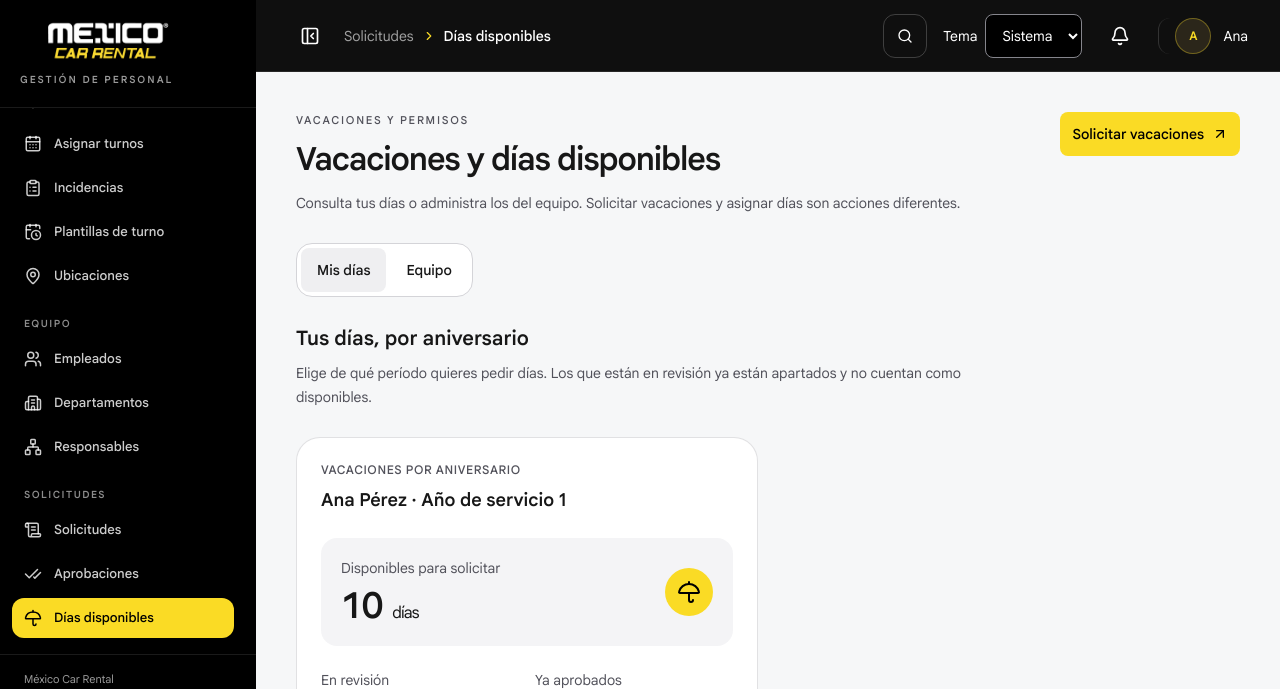
Test case: separates personal vacation days from team management without mixing employees
(page scrolled)
Expected: the heading "Ana Pérez · Año de servicio 1" is shown, [321, 488, 567, 510]
Expected: the text "Luis del equipo · Año de servicio 1" is not shown
Click the button "Equipo": [429, 270] box [390, 248, 468, 292]
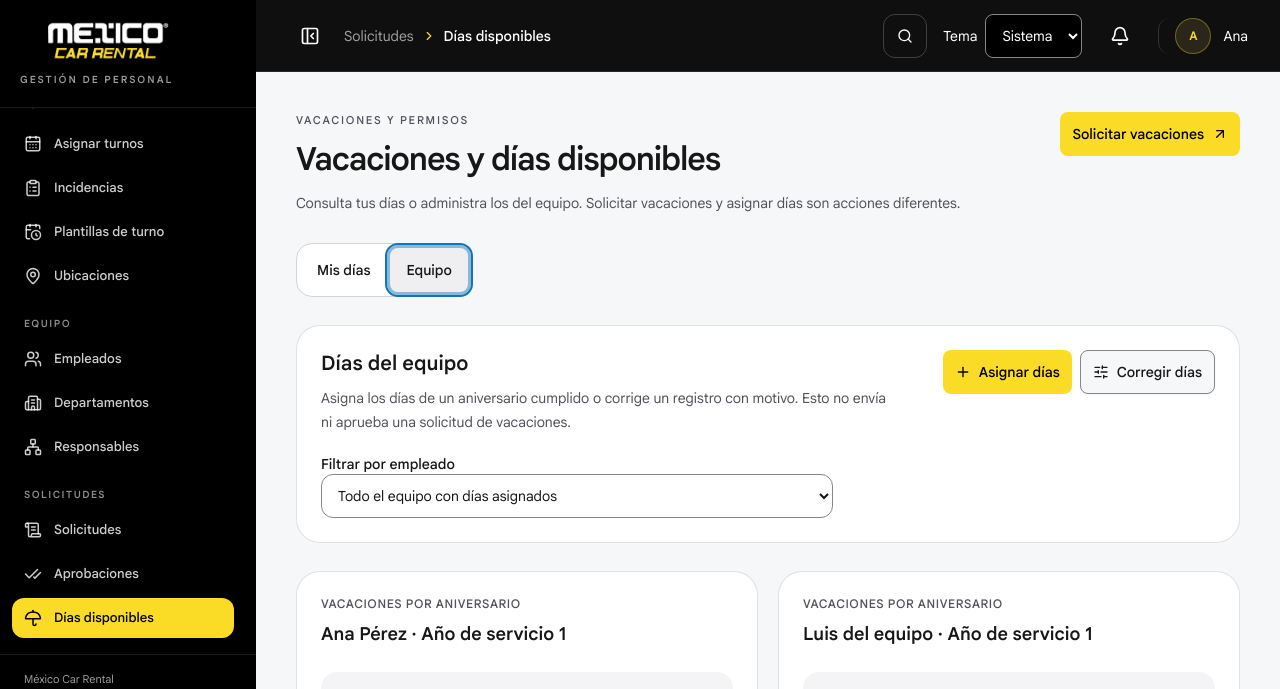
Now the heading "Luis del equipo · Año de servicio 1" is shown, box [803, 622, 1093, 644]
Select "Luis del equipo" in the dropdown labelled "Filtrar por empleado": [577, 496] box [321, 474, 833, 518]
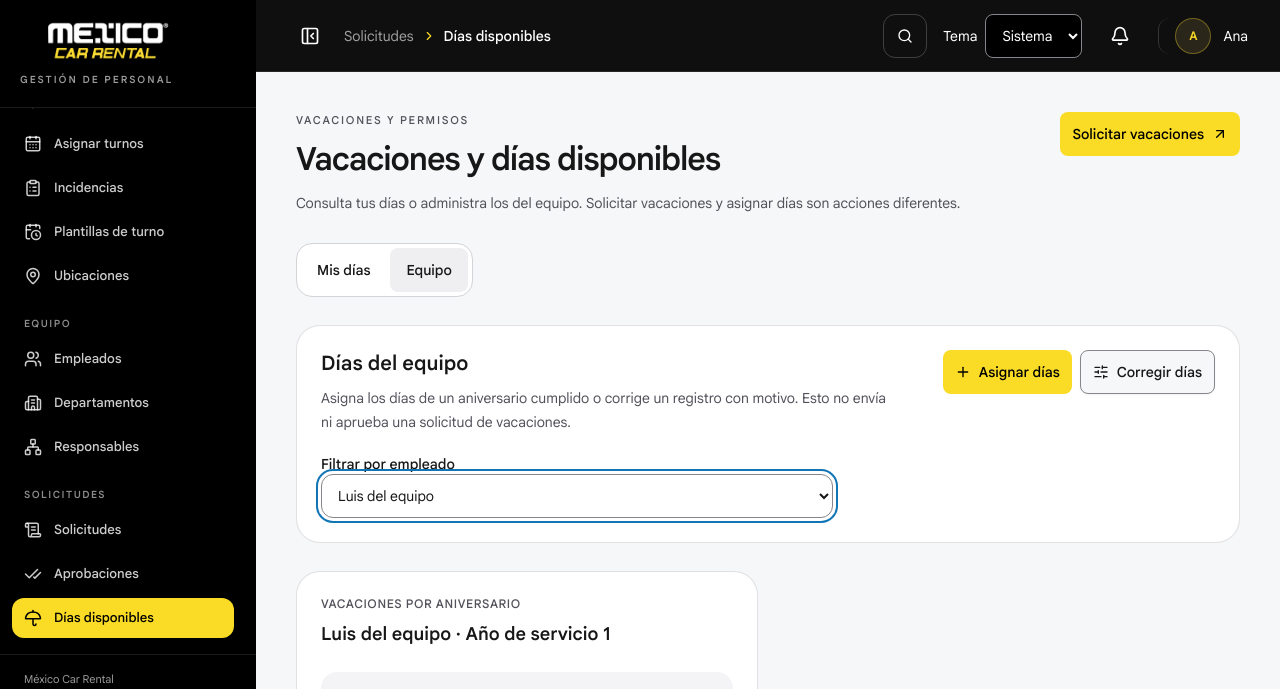
Now the heading "Luis del equipo · Año de servicio 1" is shown, box [321, 622, 611, 644]
Now the heading "Ana Pérez · Año de servicio 1" is gone
